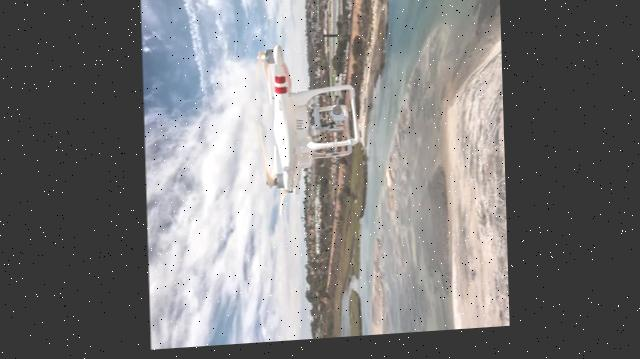drone: (255, 43, 360, 220)
